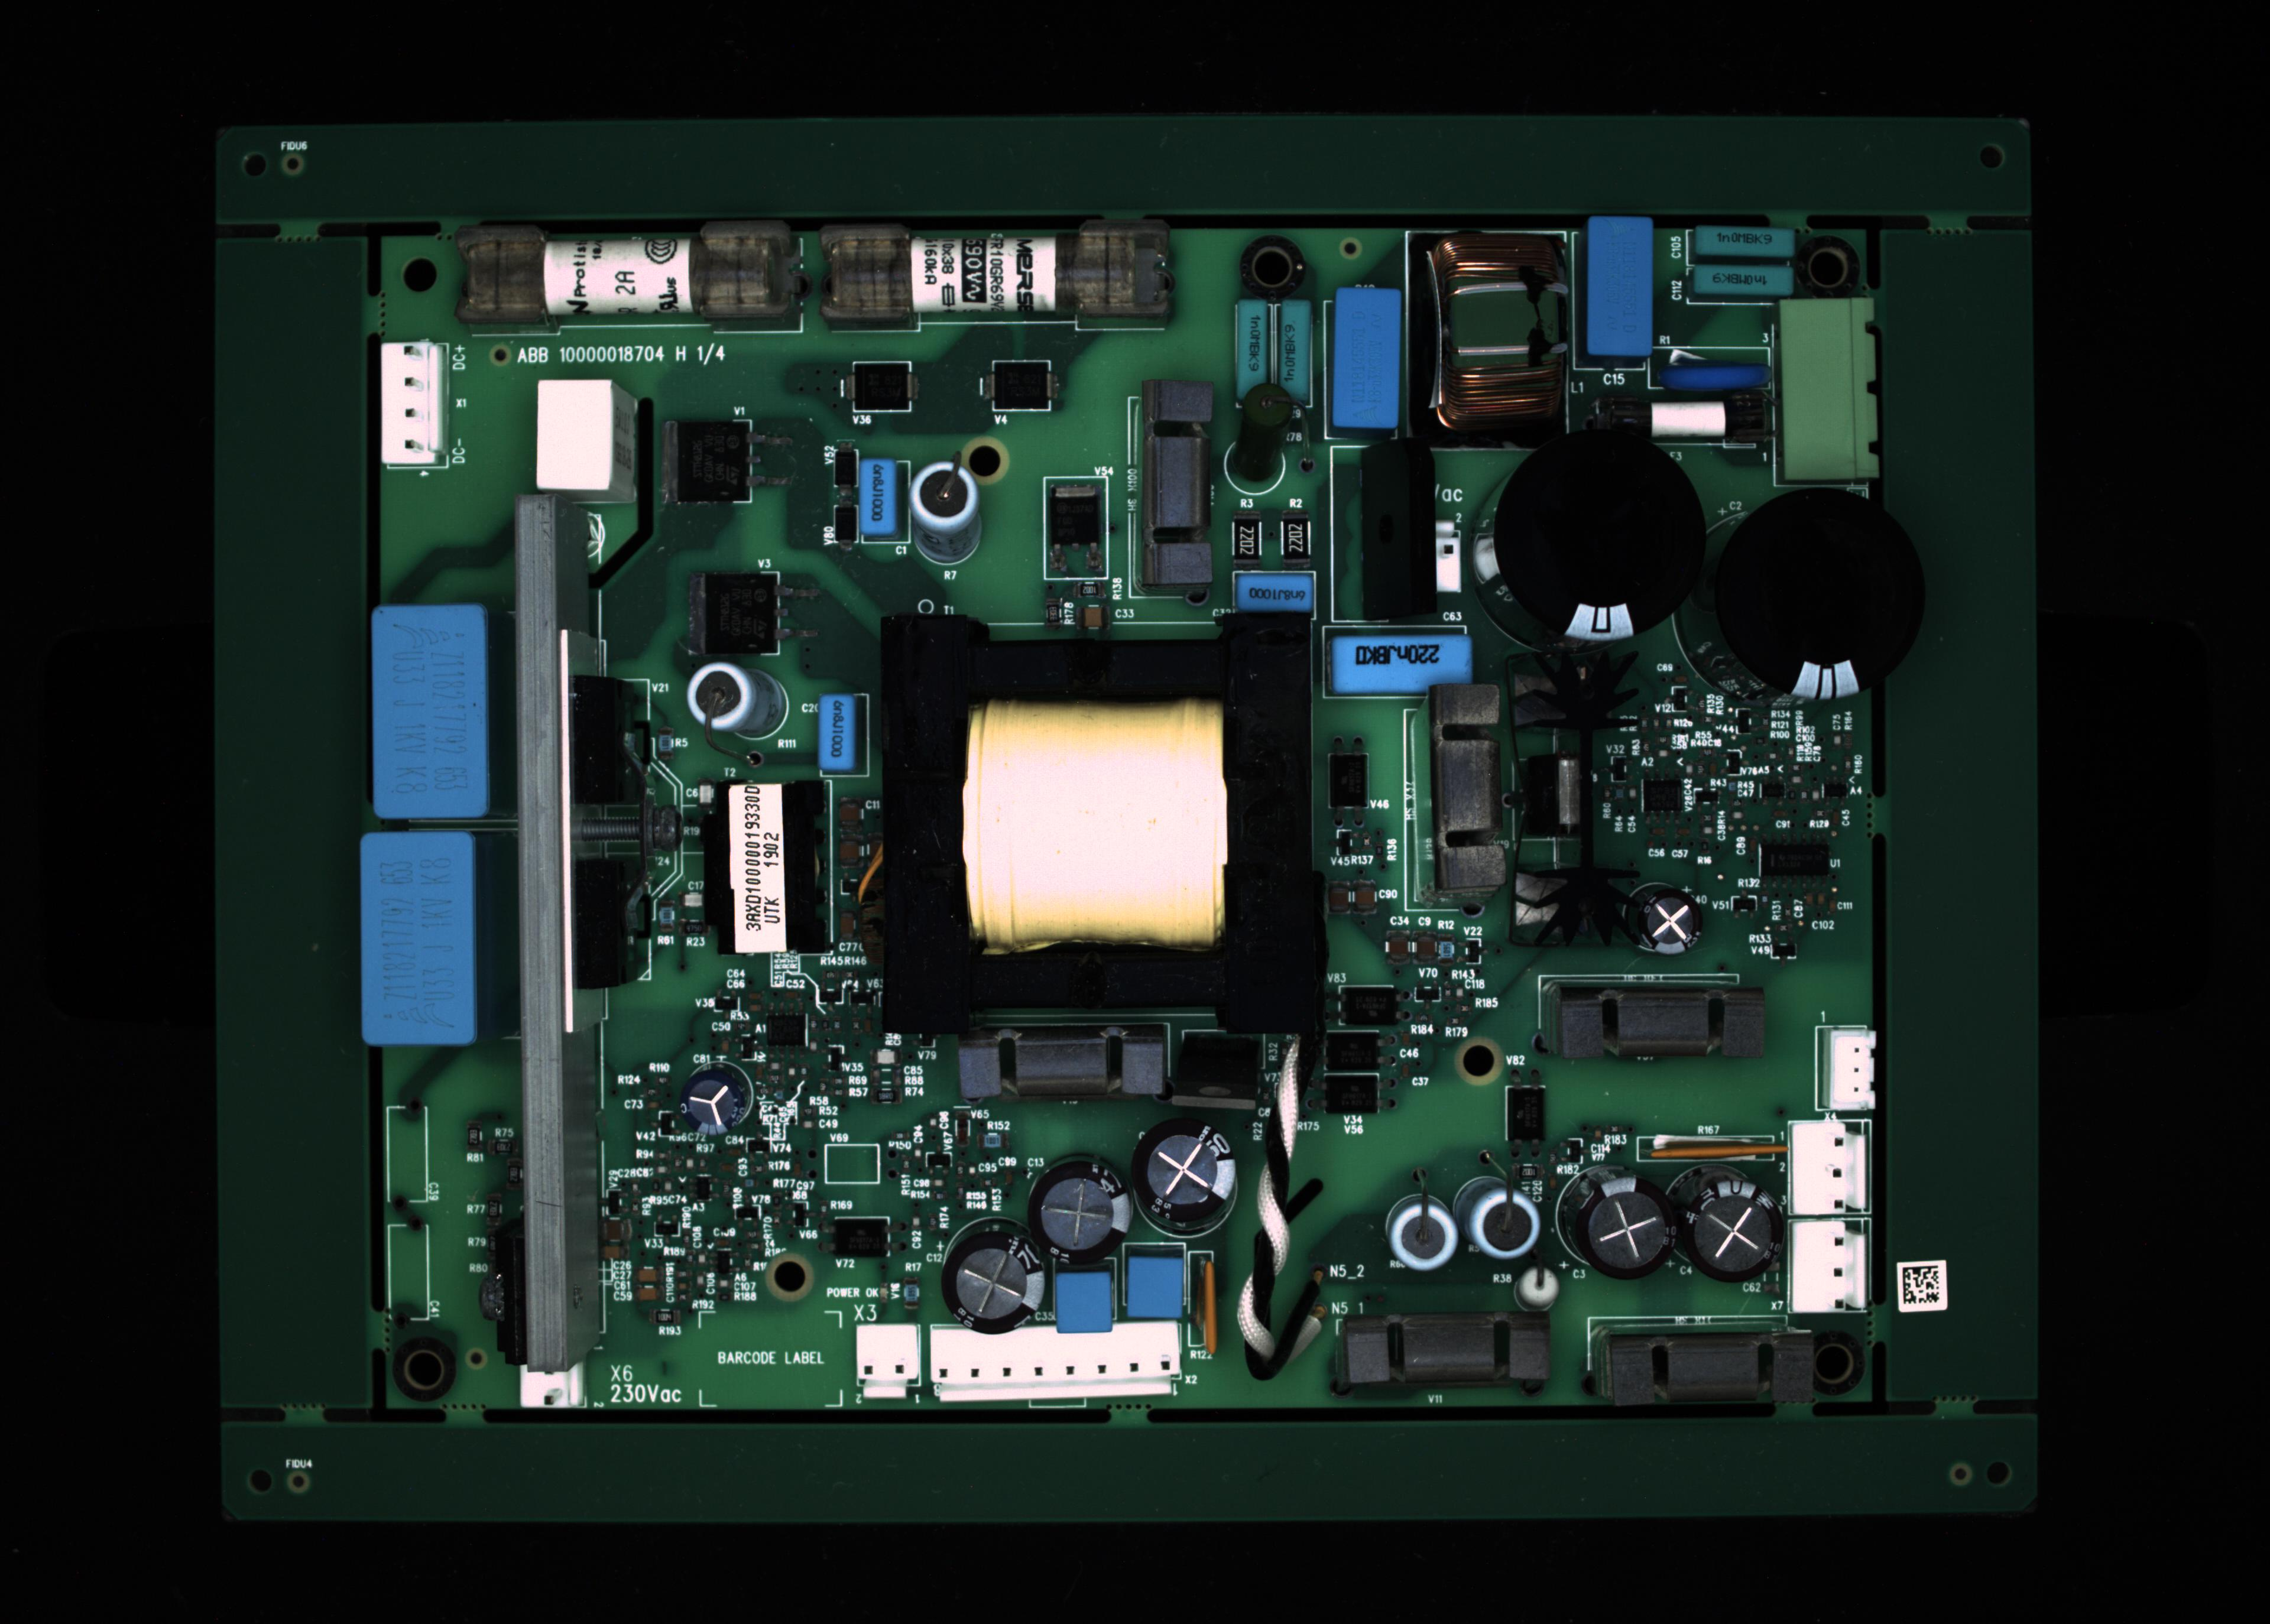10_p: (1648, 346, 1772, 394)
11_q: (1779, 295, 1880, 485)
12_r: (1591, 387, 1776, 455)
13_s: (380, 337, 440, 464)
14_t: (529, 380, 629, 503)
15_e: (855, 459, 899, 534)
16_k: (909, 460, 983, 534)
17_u: (1143, 385, 1206, 589)
18_v: (1238, 571, 1317, 608)
19_w: (1331, 634, 1473, 692)
1_a: (461, 225, 804, 330)
20_f: (1433, 518, 1461, 594)
21_g: (1493, 436, 1711, 649)
22_g: (1716, 482, 1929, 698)
23_h: (371, 603, 487, 814)
24_h: (367, 835, 475, 1046)
25_f: (515, 1360, 586, 1411)
26_f: (856, 1322, 921, 1397)
27_x: (928, 1323, 1187, 1403)
28_i: (1129, 1120, 1236, 1223)
29_i: (1027, 1153, 1134, 1274)
2_a: (823, 228, 1178, 329)
30_i: (937, 1218, 1051, 1341)
31_j: (1050, 1267, 1120, 1339)
32_j: (1115, 1250, 1197, 1329)
33_e: (816, 692, 855, 766)
34_k: (1373, 1181, 1465, 1281)
35_k: (1456, 1178, 1542, 1271)
36_i: (1556, 1164, 1672, 1295)
37_i: (1663, 1160, 1786, 1290)
38_l: (1335, 1311, 1560, 1392)
39_l: (1591, 1320, 1816, 1413)
3_b: (1240, 295, 1270, 401)
40_l: (1539, 977, 1771, 1069)
41_y: (1433, 678, 1505, 914)
42_z: (1825, 1028, 1876, 1113)
43_m: (1793, 1118, 1871, 1216)
44_m: (1788, 1225, 1871, 1313)
45_i: (679, 1065, 756, 1142)
46_n: (1340, 982, 1400, 1025)
48_n: (832, 1216, 890, 1258)
49_aa: (765, 1011, 809, 1051)
4_b: (1280, 299, 1313, 406)
50_n: (1324, 1030, 1382, 1070)
51_n: (1324, 1074, 1380, 1113)
52_ab: (1328, 747, 1370, 808)
53_ac: (1656, 1130, 1790, 1165)
54_ad: (1194, 1253, 1222, 1364)
55_l: (957, 1021, 1175, 1104)
56_ae: (1176, 1025, 1268, 1113)
57_af: (1509, 647, 1635, 951)
58_i: (1630, 884, 1706, 958)
59_o: (990, 360, 1053, 411)
5_c: (1335, 286, 1400, 425)
60_o: (851, 360, 914, 411)
6_6: (1405, 232, 1572, 452)
7_c: (1588, 216, 1655, 352)
8_d: (1686, 225, 1792, 258)
9_d: (1697, 262, 1793, 299)
